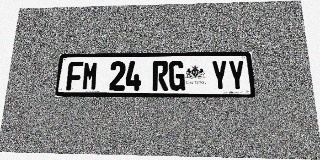2: (109, 61, 126, 91)
4: (125, 61, 142, 91)
F: (66, 62, 83, 91)
G: (169, 61, 185, 91)
M: (82, 61, 99, 91)
R: (152, 61, 168, 91)
Y: (211, 60, 229, 91), (228, 60, 246, 91)
